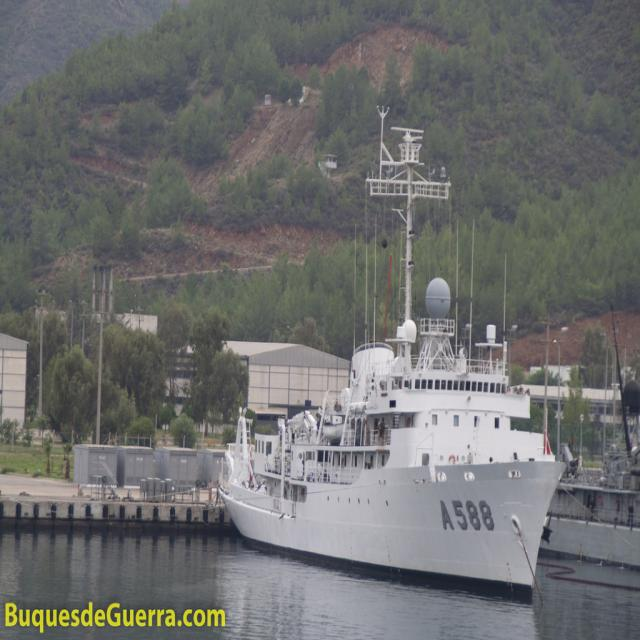Boat: (220, 172, 590, 592)
